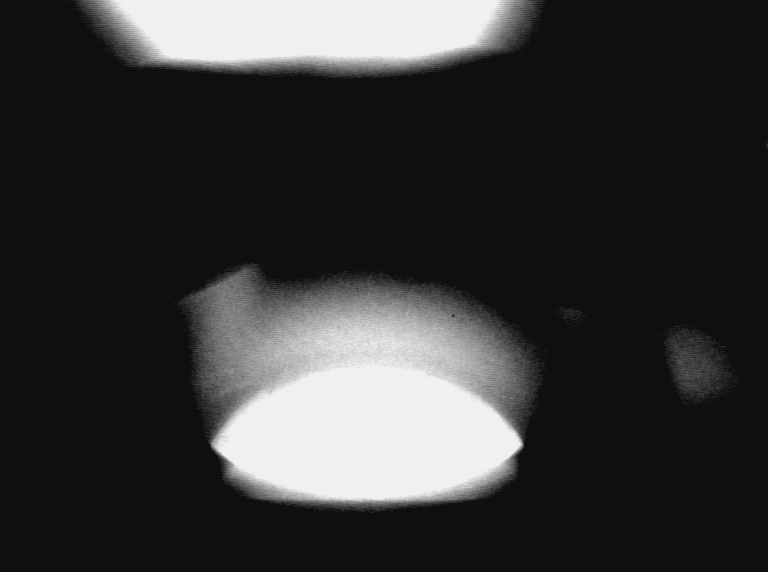defect: (171, 262, 264, 345)
